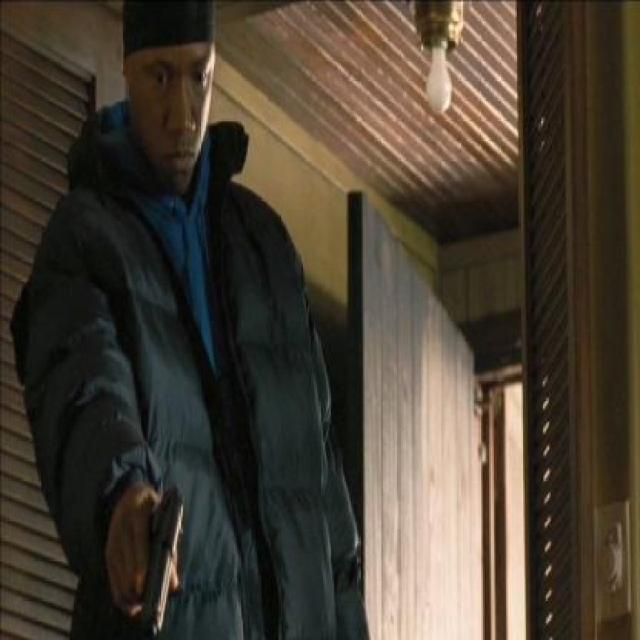gun: (133, 460, 189, 640)
